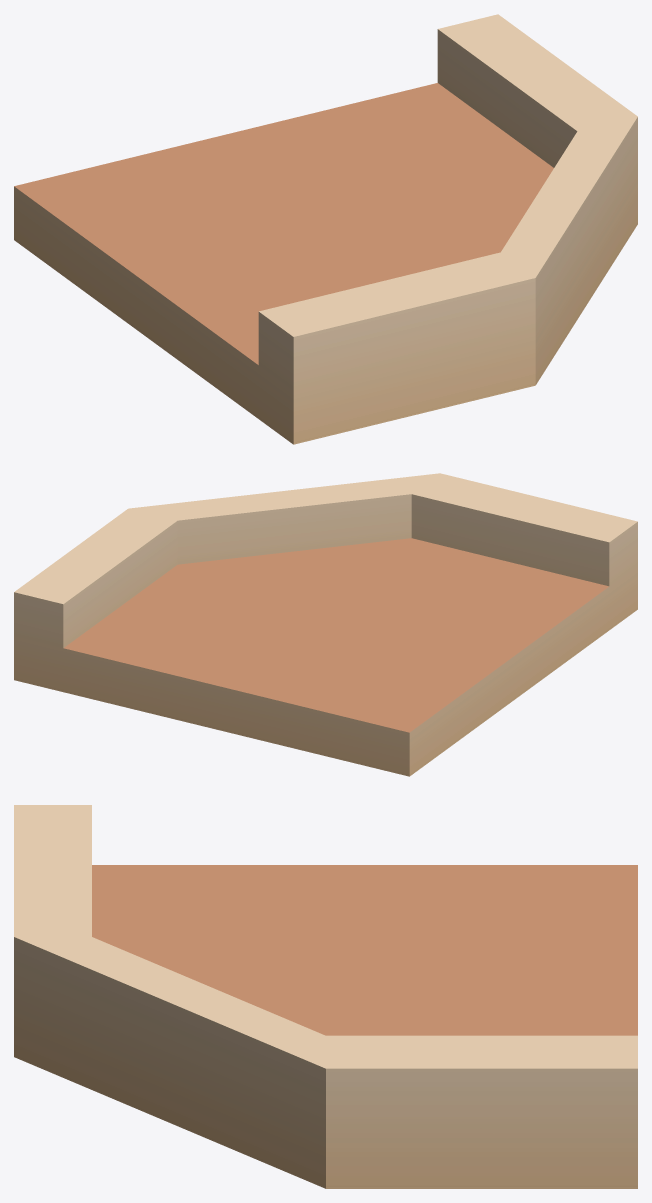
The model's file is roof-flat-border-corner-slanted.glb.
3 renders of one model, top to bottom at view 1: azimuth 30°, elevation 25°; view 2: azimuth 150°, elevation 25°; view 3: azimuth 270°, elevation 25°, orthographic. The views are drawn at different scales.
Parts seen in each view (by area): view 1: roof-flat-border-corner-slanted; view 2: roof-flat-border-corner-slanted; view 3: roof-flat-border-corner-slanted.
Boxes of the visible parts, box(x1,y1,x2,y2) form: roof-flat-border-corner-slanted: box(14, 14, 637, 444); roof-flat-border-corner-slanted: box(14, 473, 637, 776); roof-flat-border-corner-slanted: box(14, 805, 637, 1188).
Size of the model in its own units: 1 by 0.2125 by 1.
1 material, 1 textured.
